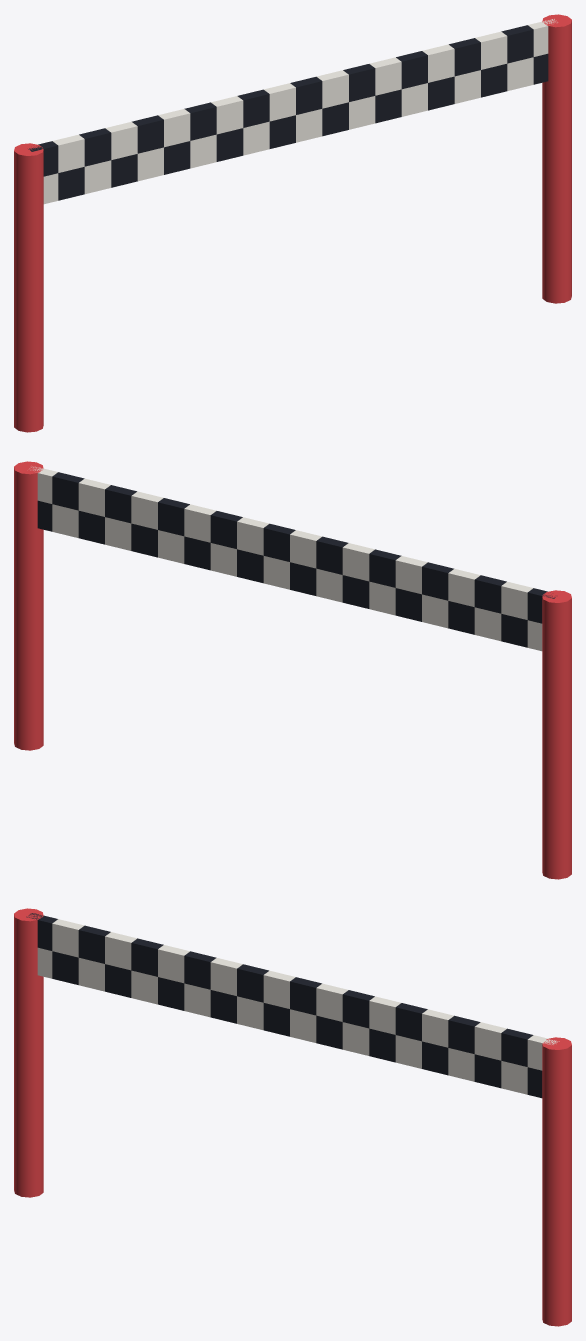
File: finish_arch.glb
3 views of the same model, one above another, from view 1: azimuth 30°, elevation 25°; view 2: azimuth 150°, elevation 25°; view 3: azimuth 330°, elevation 25° (orthographic).
Visible parts, largest first — view 1: finish_arch; view 2: finish_arch; view 3: finish_arch.
Part boxes in pixels (x1,y1,x2,y2): finish_arch: [14, 14, 571, 432]; finish_arch: [14, 461, 571, 879]; finish_arch: [14, 908, 571, 1326].
Size of the model in its own units: 10.48 by 5 by 0.5.
